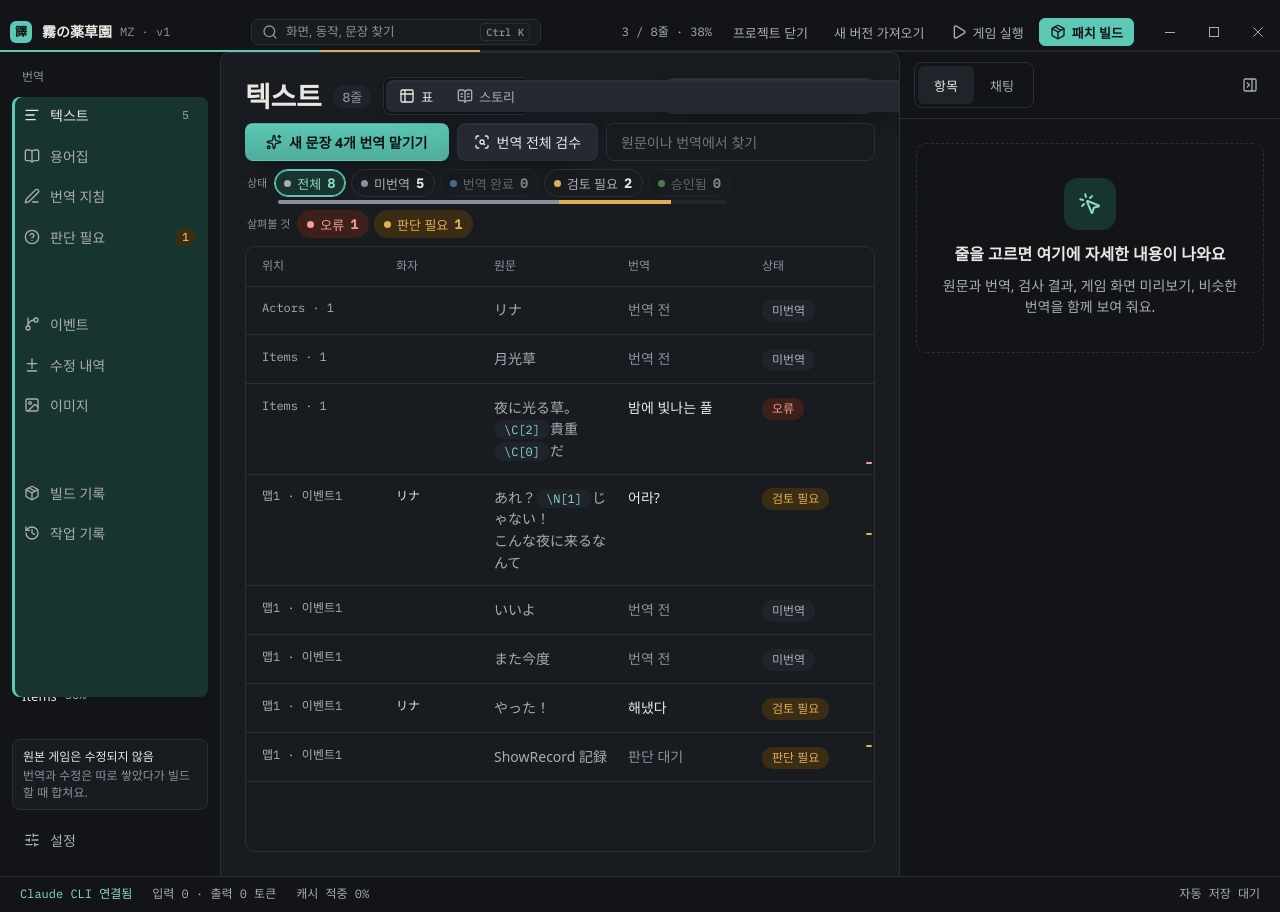
Test case: 상태 필터 미번역이면 미번역 줄이 없는 장면이 사라진다
The image size is (1280, 912).
Expected: the text "霧の薬草園" is shown, [42,21,112,43]
Click the button "스토리" at (486, 96), box [445,81,527,111]
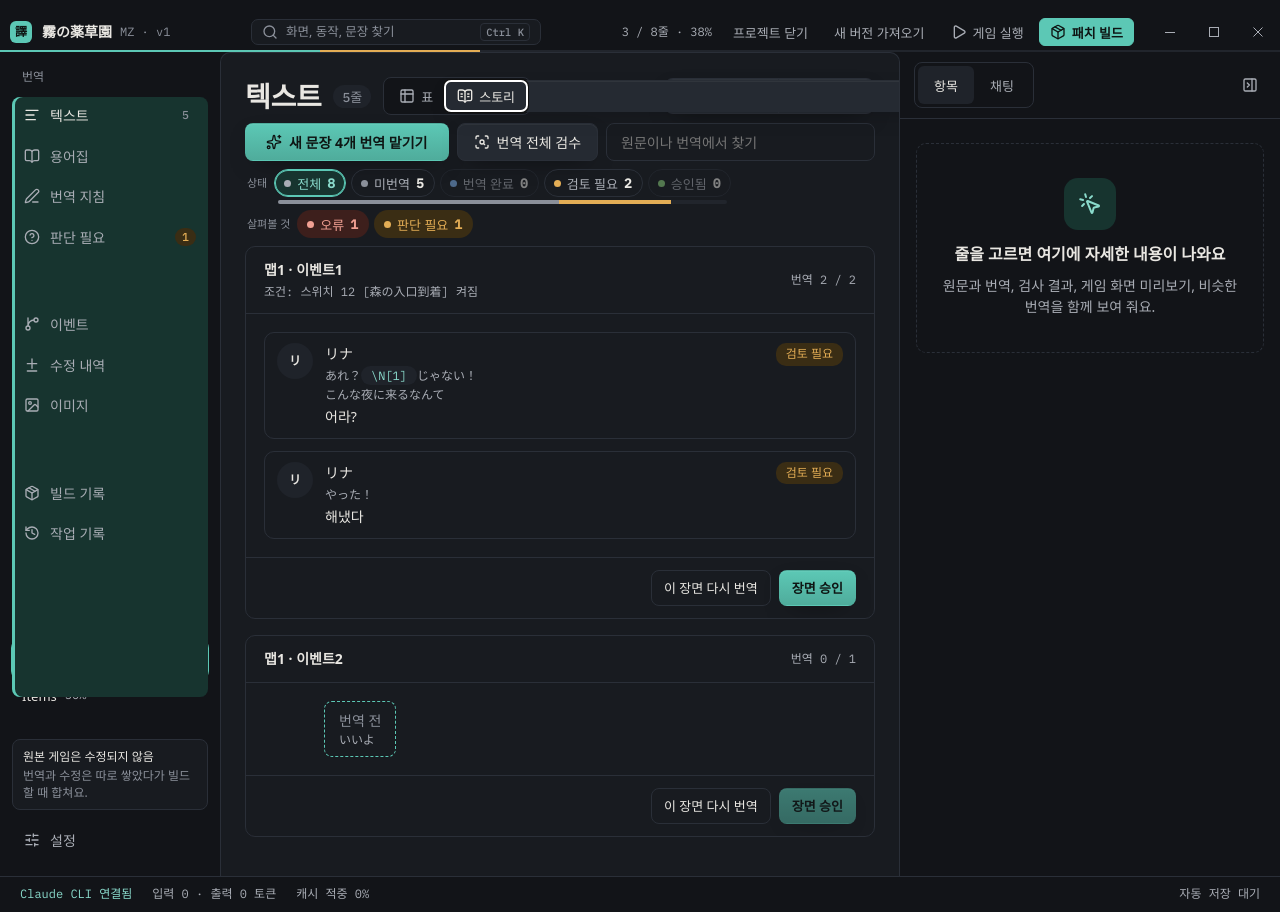
Expected: the text "맵1 · 이벤트1" is shown, [264,260,343,279]
Expected: the text "맵1 · 이벤트2" is shown, [264,648,343,670]
Click the button "미번역 5" at (393, 183), box [351,169,435,197]
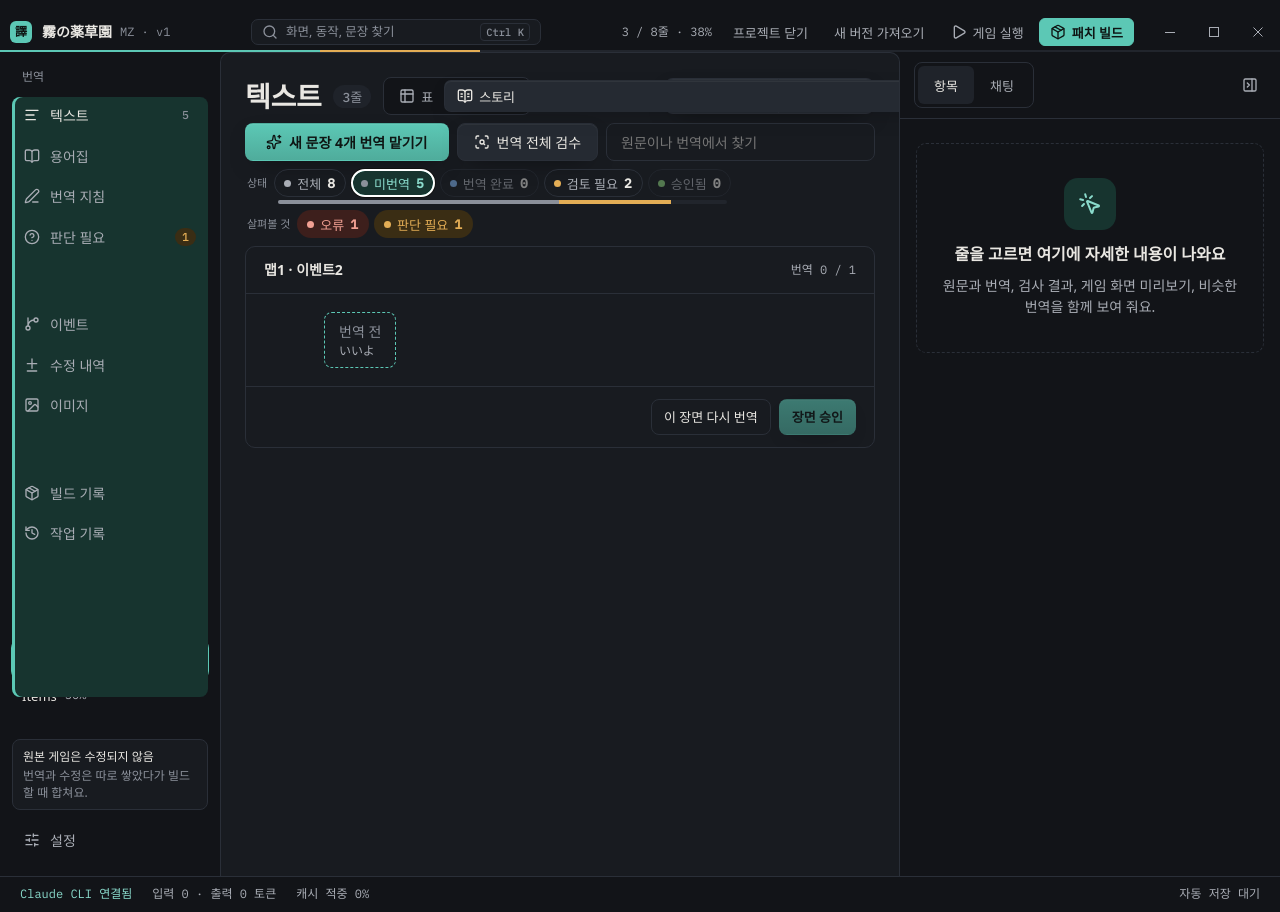
Expected: the text "맵1 · 이벤트2" is shown, [264,259,343,281]
Expected: the text "맵1 · 이벤트1" is gone
